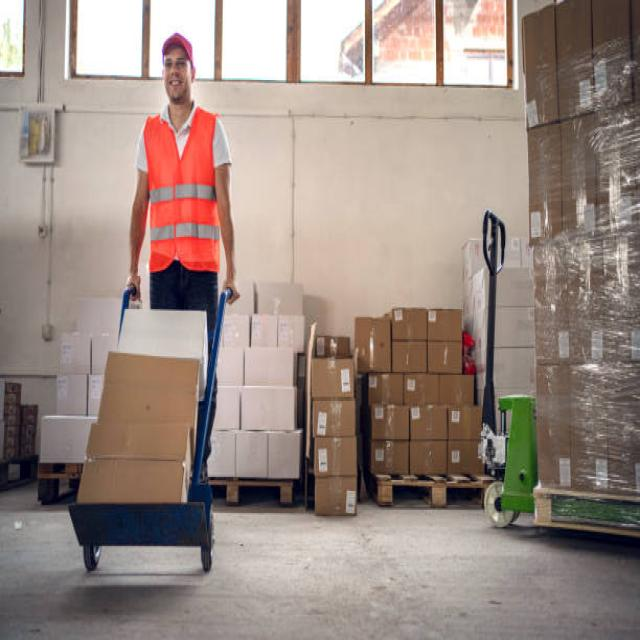Wooden-Pallets: (375, 478, 489, 509)
